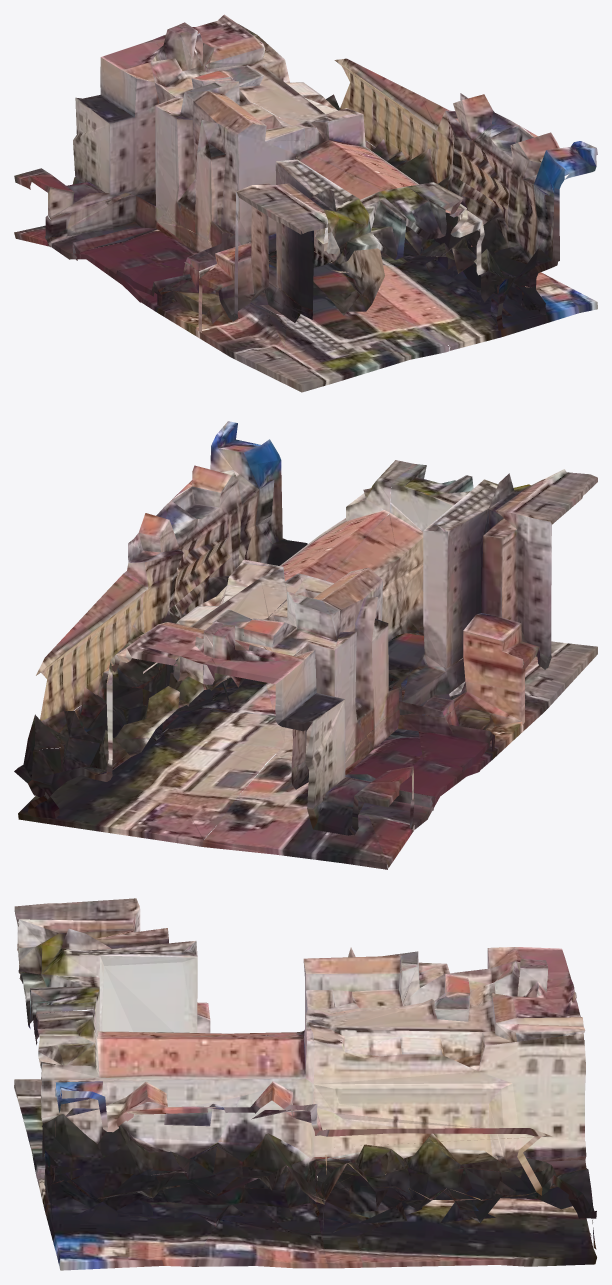
3 views of the same model, one above another, from view 1: azimuth 30°, elevation 25°; view 2: azimuth 150°, elevation 25°; view 3: azimuth 270°, elevation 25° (orthographic). The views are drawn at different scales.
Parts seen in each view (by area): view 1: Mesh_0; view 2: Mesh_0; view 3: Mesh_0.
Part boxes in pixels (x1,y1,x2,y2): Mesh_0: (14, 14, 597, 392); Mesh_0: (14, 421, 597, 869); Mesh_0: (14, 898, 596, 1270).
Bounding box in the file's own units: 66.6 × 34.28 × 82.61.
1 material, 1 textured.
